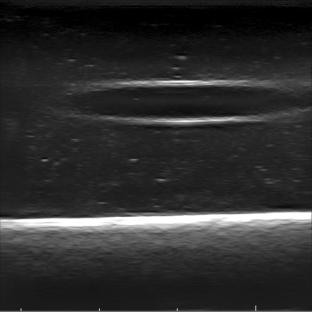vessel: (73, 78, 299, 126)
